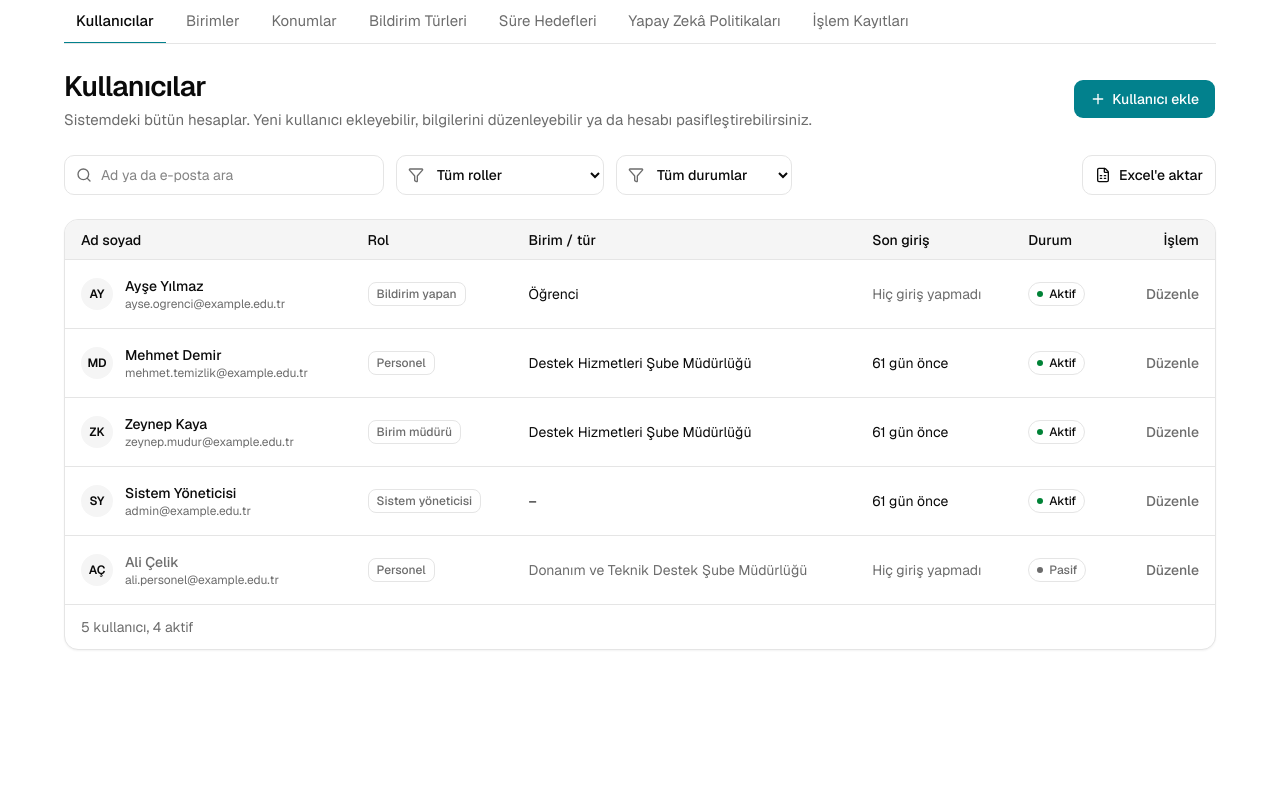
Scenario: UsersScreen › edits a user's name
Click the button with aria-label "Mehmet Demir kullanıcısını düzenle".
click(1172, 363)  # box left=1138, top=341, right=1207, bottom=385
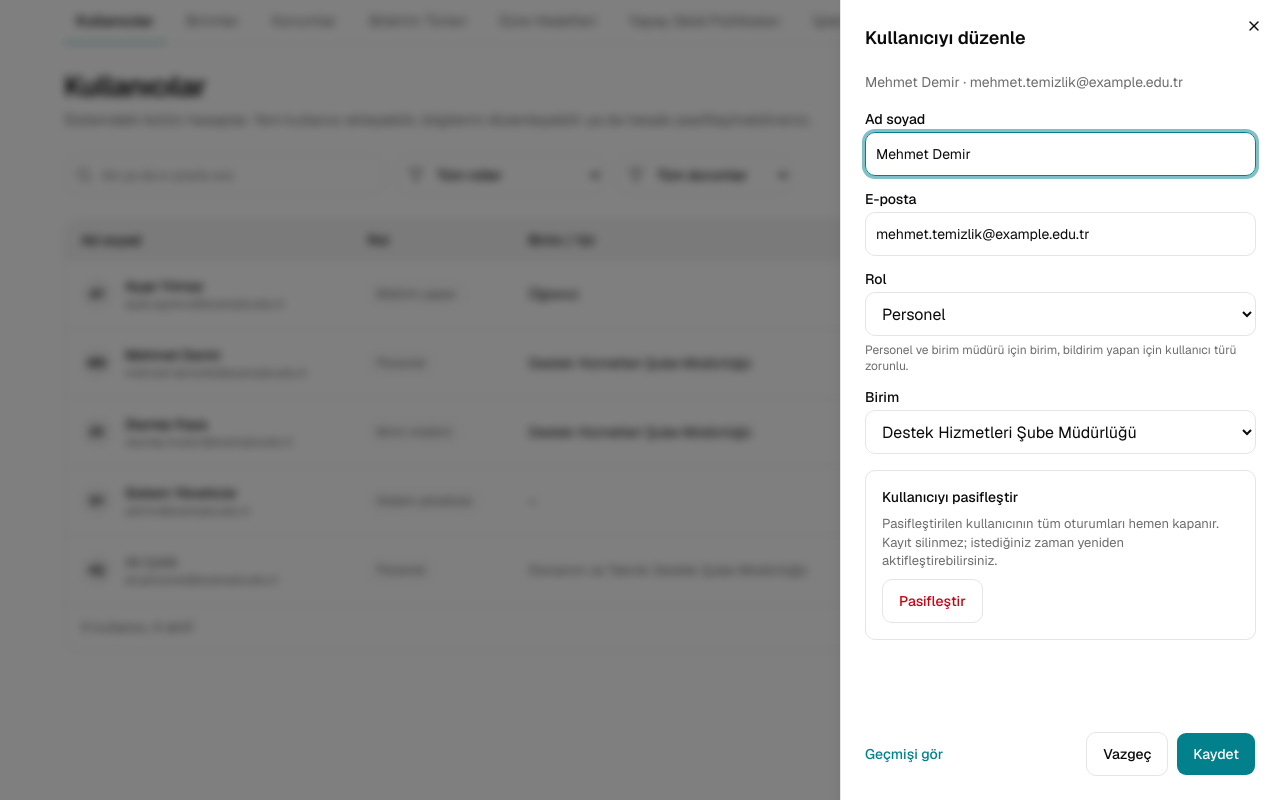
Replace the text in the field labelled "Ad soyad" with "Mehmet Demirci" at (1060, 154), box left=865, top=132, right=1256, bottom=176
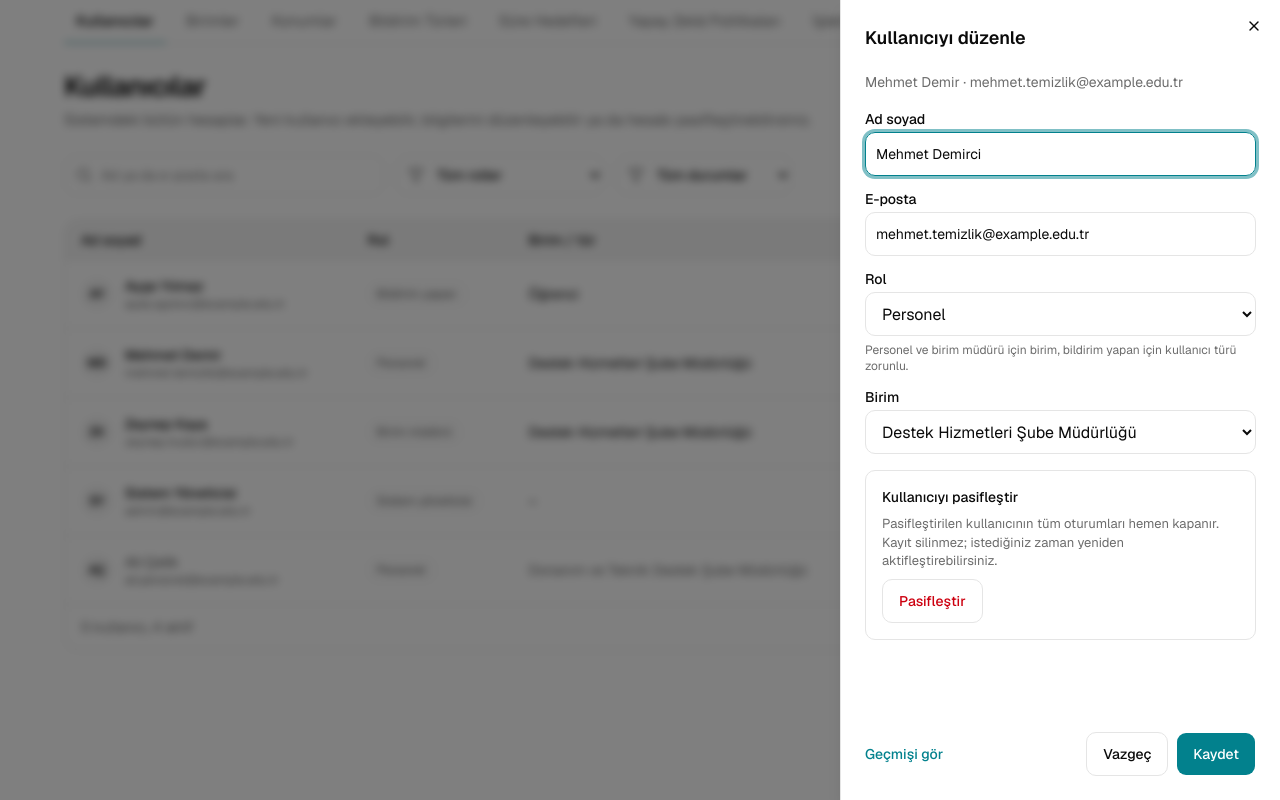
Click the button "Kaydet".
click(1216, 754)  # box left=1176, top=732, right=1256, bottom=776
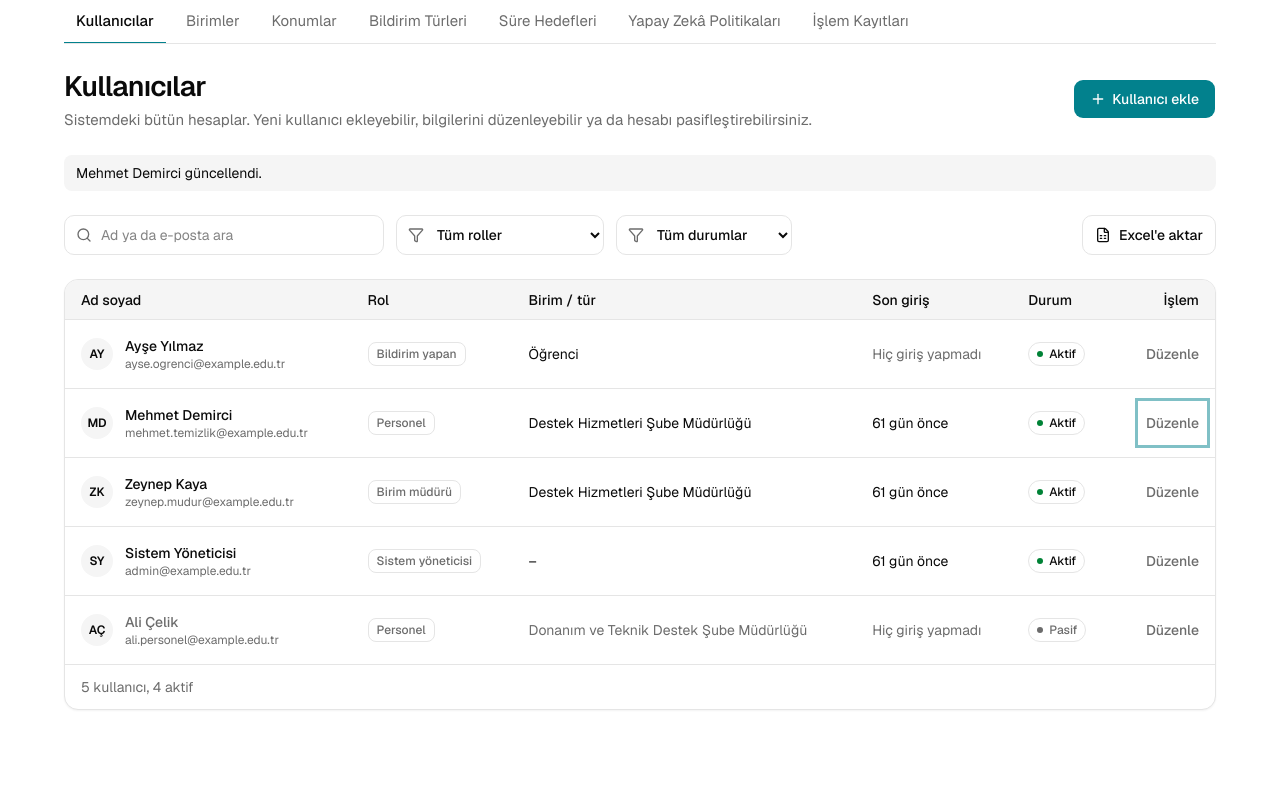
Now the row "Mehmet Demirci" is shown, box left=65, top=389, right=1215, bottom=458
